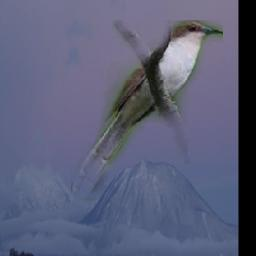Cuckoo: (71, 20, 223, 201)
